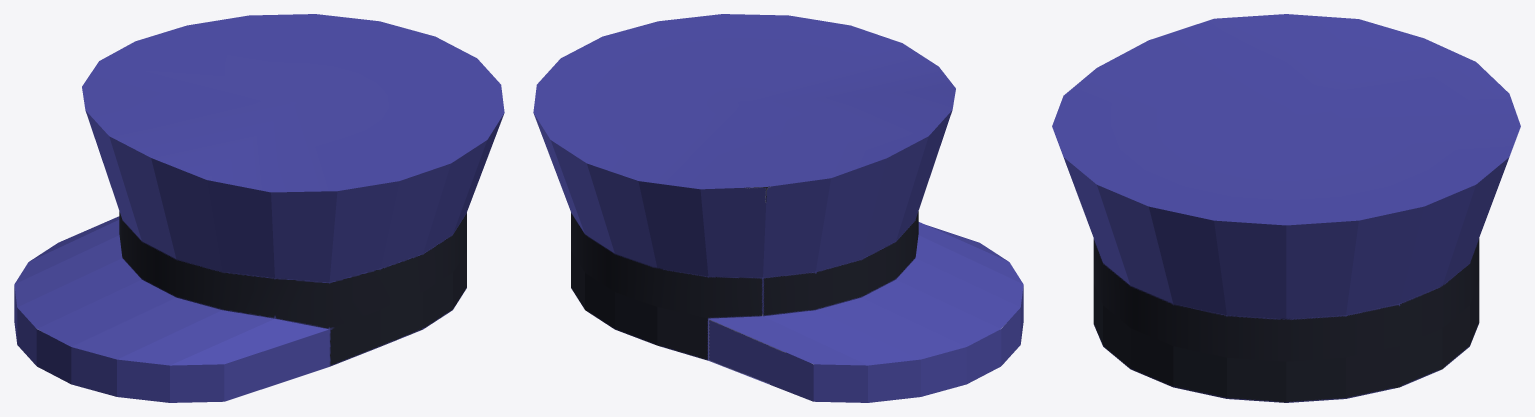
File: hat police.fbx
3 views of the same model, side by side, from view 1: azimuth 30°, elevation 25°; view 2: azimuth 150°, elevation 25°; view 3: azimuth 270°, elevation 25° (orthographic). The views are drawn at different scales.
Visible parts, largest first — view 1: pCylinder5; view 2: pCylinder5; view 3: pCylinder5.
Part boxes in pixels (box(x1,y1,x2,y2)): pCylinder5: box(14, 14, 504, 402); pCylinder5: box(533, 14, 1023, 402); pCylinder5: box(1052, 14, 1520, 402).
Bounding box in the file's own units: 2.91 × 1.34 × 2.43.
